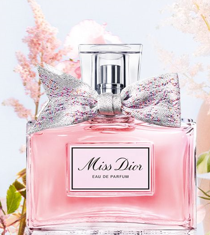dior_miss_dior: (22, 39, 198, 232)
